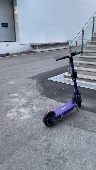beam: (41, 49, 84, 130)
